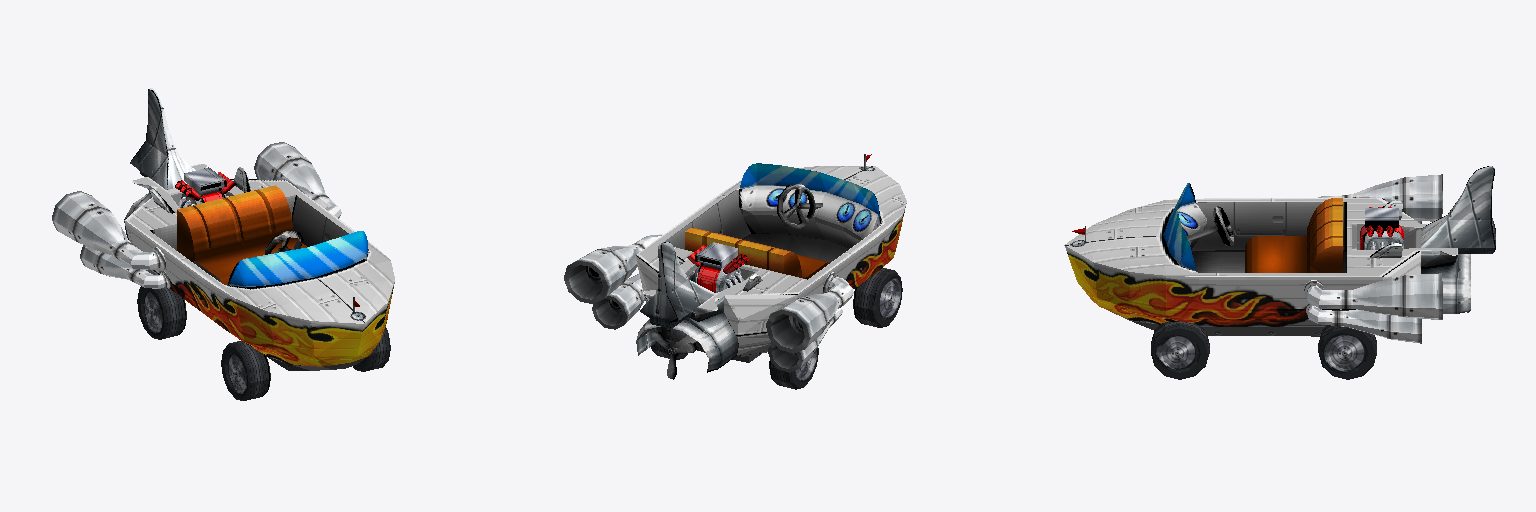
The picture shows the model from 3 angles: view 1: azimuth 30°, elevation 25°; view 2: azimuth 150°, elevation 25°; view 3: azimuth 270°, elevation 25°; orthographic projection.
Visible parts, largest first — view 1: BBODY, BWHEEL03, BWHEEL01, BWHEEL00; view 2: BBODY, BWHEEL03, BWHEEL01, PROPELLER; view 3: BBODY, BWHEEL00, BWHEEL02.
Part boxes in pixels (x1,y1,x2,y2): BBODY: (52,88,394,370); BWHEEL03: (221,341,270,400); BWHEEL01: (137,286,186,339); BWHEEL00: (353,327,390,371); BBODY: (564,154,906,372); BWHEEL03: (853,268,902,327); BWHEEL01: (769,348,818,389); PROPELLER: (651,329,697,379); BBODY: (1064,166,1495,343); BWHEEL00: (1151,321,1209,379); BWHEEL02: (1318,325,1376,379).
Bounding box in the file's own units: 2.43 × 1.7 × 3.68.
1 materials, 1 textured.